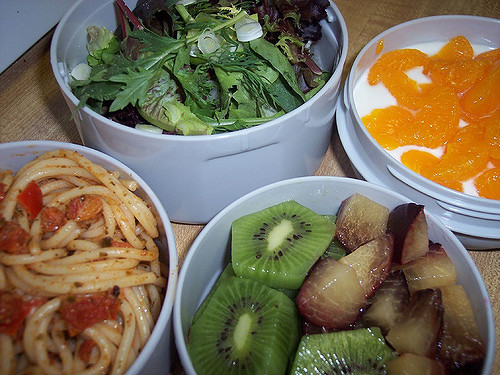chopped lettuce: (72, 7, 338, 134)
plain spaghetti: (3, 144, 165, 375)
